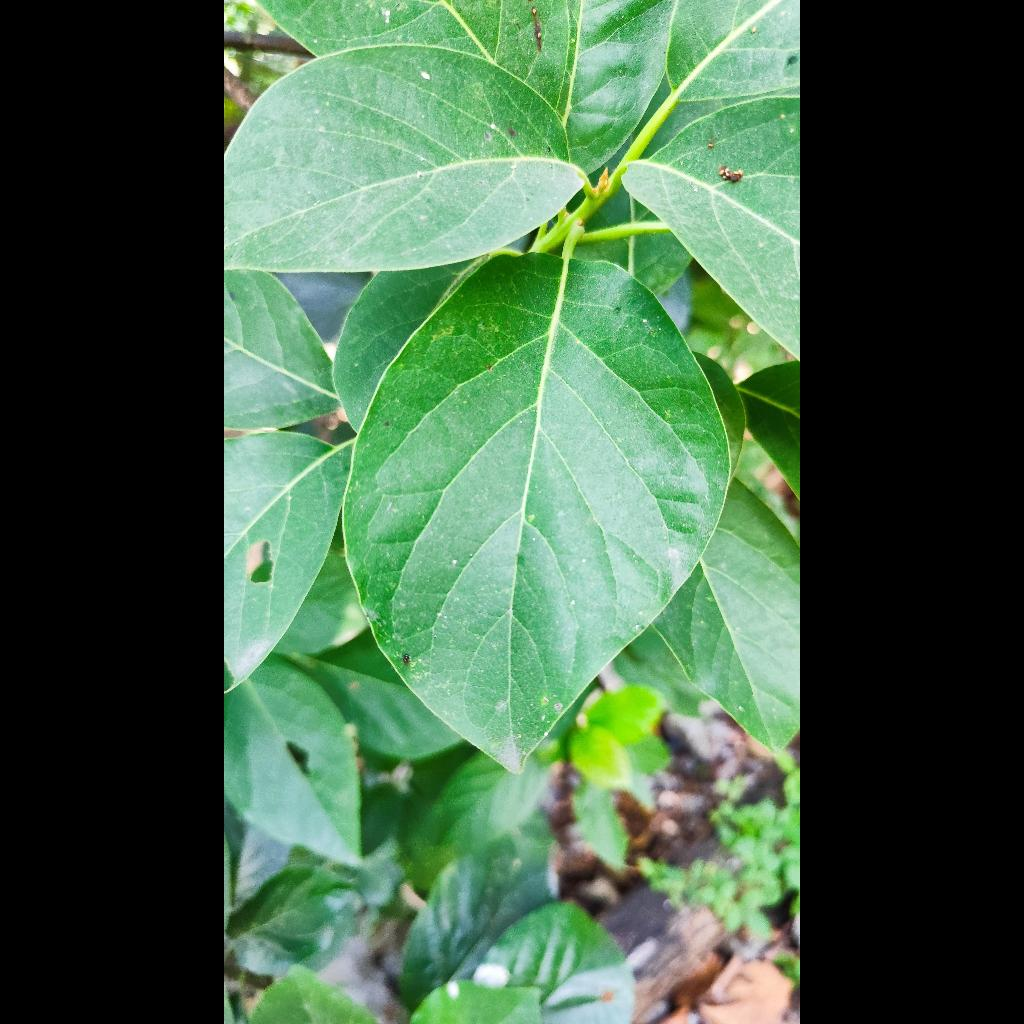hoja_sana: (344, 254, 730, 771), (224, 43, 583, 271)
